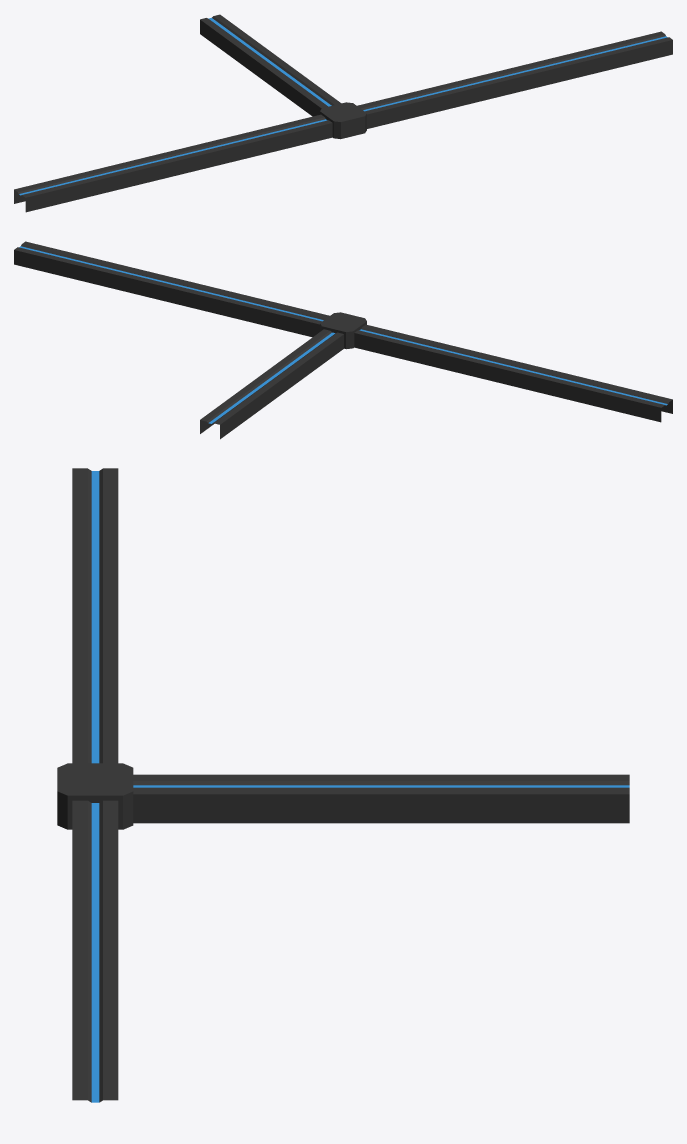
3 renders of one model, top to bottom at view 1: azimuth 30°, elevation 25°; view 2: azimuth 150°, elevation 25°; view 3: azimuth 270°, elevation 25°, orthographic. The views are drawn at different scales.
Parts seen in each view (by area): view 1: 1101; view 2: 1101; view 3: 1101.
Part boxes in pixels (x1,y1,x2,y2): 1101: [14, 14, 672, 212]; 1101: [14, 241, 672, 439]; 1101: [57, 468, 629, 1102].
Bounding box in the file's own units: 2 × 0.0503 × 0.7651.
